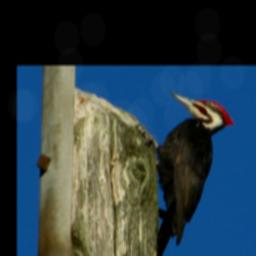Woodpecker: (141, 92, 239, 256)
